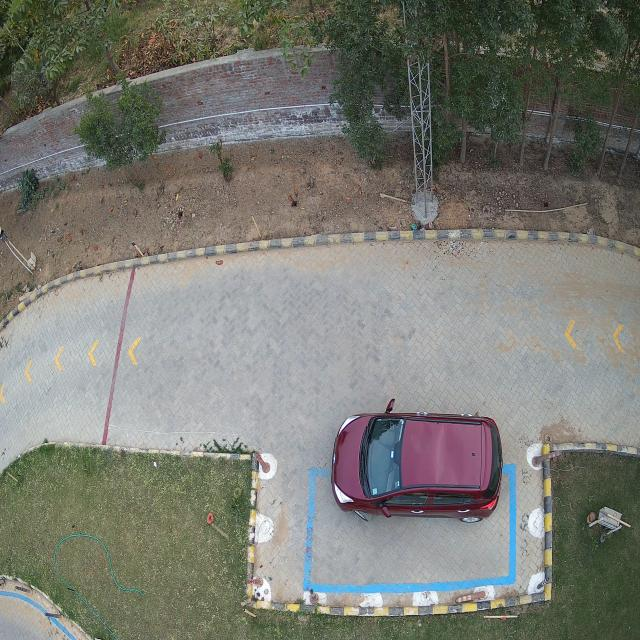car: (331, 413, 504, 522)
